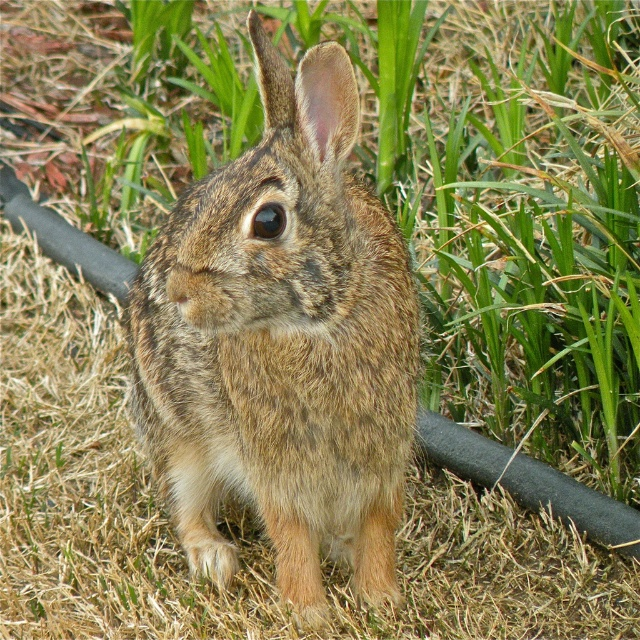Rabbit: (108, 9, 443, 632)
